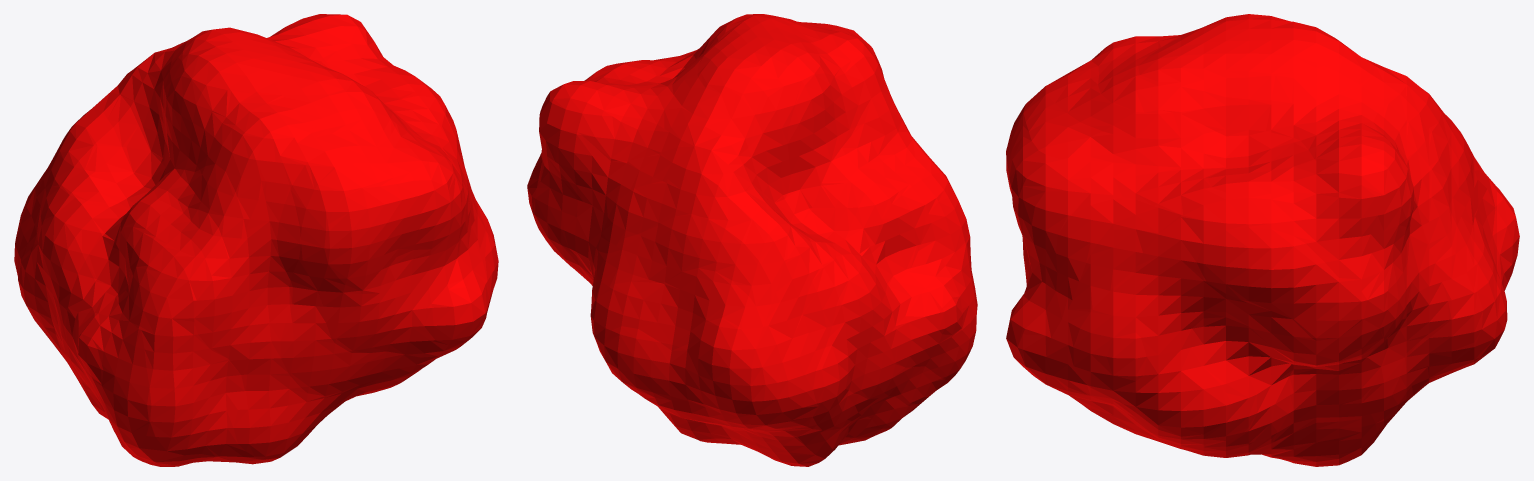
The model's file is ycdX_coarse.dae.
3 renders of one model, left to right at view 1: azimuth 30°, elevation 25°; view 2: azimuth 150°, elevation 25°; view 3: azimuth 270°, elevation 25°, orthographic. The views are drawn at different scales.
Visible parts, largest first — view 1: ycdX; view 2: ycdX; view 3: ycdX.
Boxes of the visible parts, bbox=[...] form: ycdX: bbox=[14, 14, 498, 466]; ycdX: bbox=[527, 14, 977, 466]; ycdX: bbox=[1006, 14, 1519, 466].
Size of the model in its own units: 45.25 by 44.42 by 47.87.
